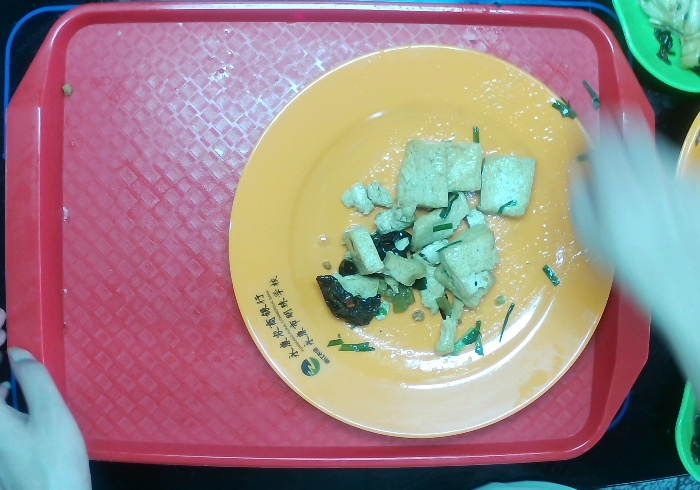YKMZ-Ju_Se_Mian_Pan: (217, 38, 628, 437)
